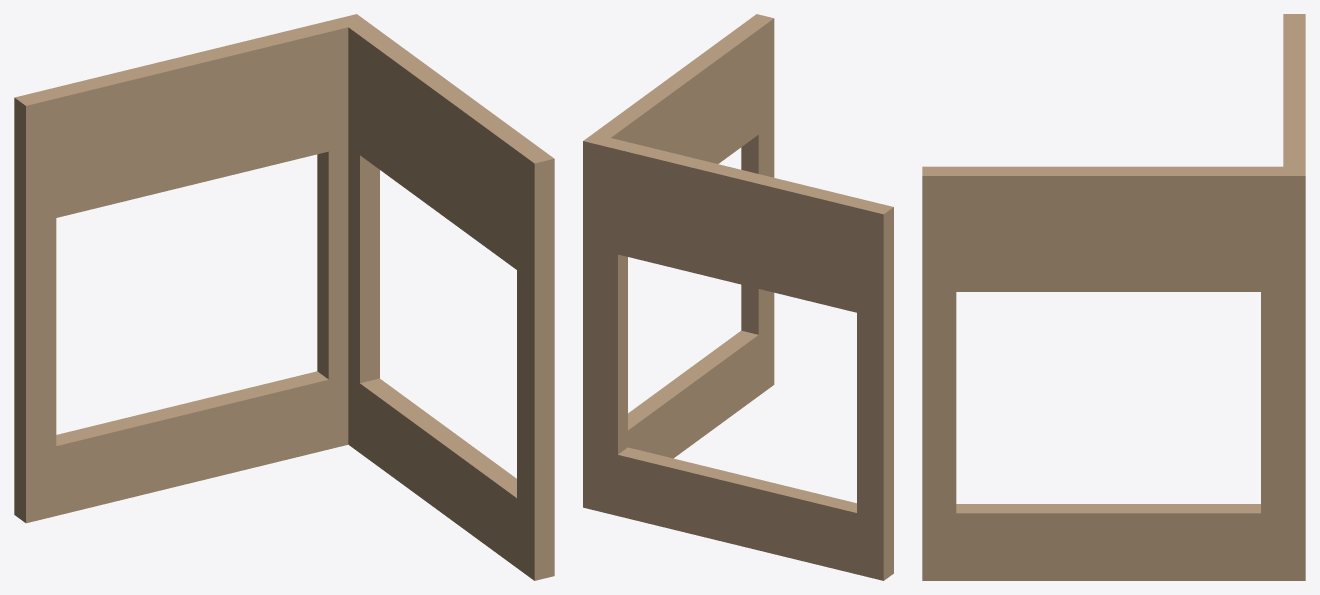
The model's file is Wall2_C1_15.fbx.
3 views of the same model, side by side, from view 1: azimuth 30°, elevation 25°; view 2: azimuth 150°, elevation 25°; view 3: azimuth 270°, elevation 25° (orthographic). The views are drawn at different scales.
Parts seen in each view (by area): view 1: Wall2_C1_15; view 2: Wall2_C1_15; view 3: Wall2_C1_15.
Part boxes in pixels (left/top/right/bottom): Wall2_C1_15: left=14, top=14, right=554, bottom=580; Wall2_C1_15: left=583, top=14, right=893, bottom=580; Wall2_C1_15: left=922, top=14, right=1305, bottom=580.
Bounding box in the file's own units: 258 × 300 × 258.
